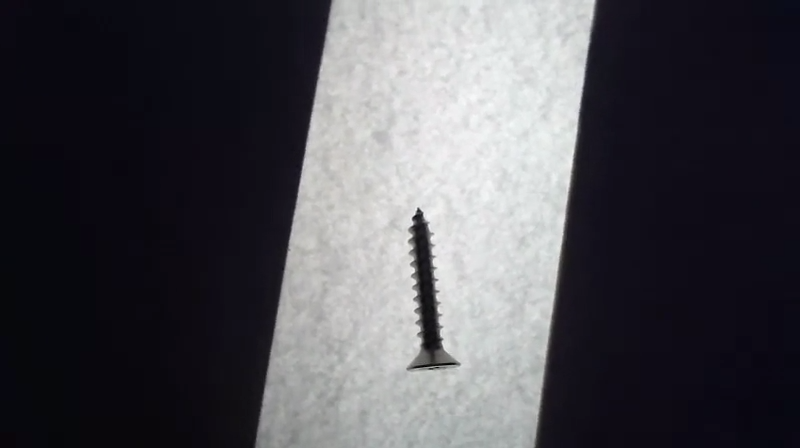S001: (397, 201, 465, 379)
